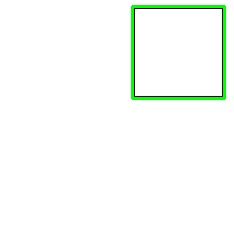line_segment: (131, 5, 226, 99)
